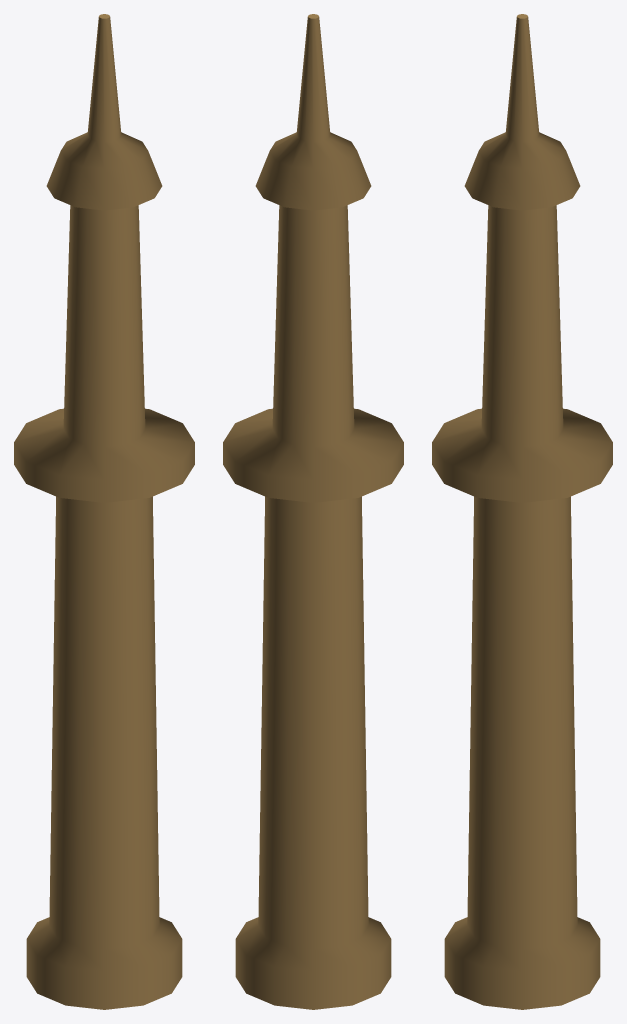
The model's file is SM_Landmark_Minaret_A.obj.
The picture shows the model from 3 angles, left to right: view 1: azimuth 30°, elevation 25°; view 2: azimuth 150°, elevation 25°; view 3: azimuth 270°, elevation 25°; orthographic projection.
Parts seen in each view (by area): view 1: SM_Landmark_Minaret_A; view 2: SM_Landmark_Minaret_A; view 3: SM_Landmark_Minaret_A.
Boxes of the visible parts, x1,y1,x2,y2 form: SM_Landmark_Minaret_A: (14, 14, 194, 1009); SM_Landmark_Minaret_A: (223, 14, 403, 1009); SM_Landmark_Minaret_A: (432, 14, 612, 1009).
Bounding box in the file's own units: 2.56 × 15 × 2.56.
Materials: 1 (1 with a texture image).
